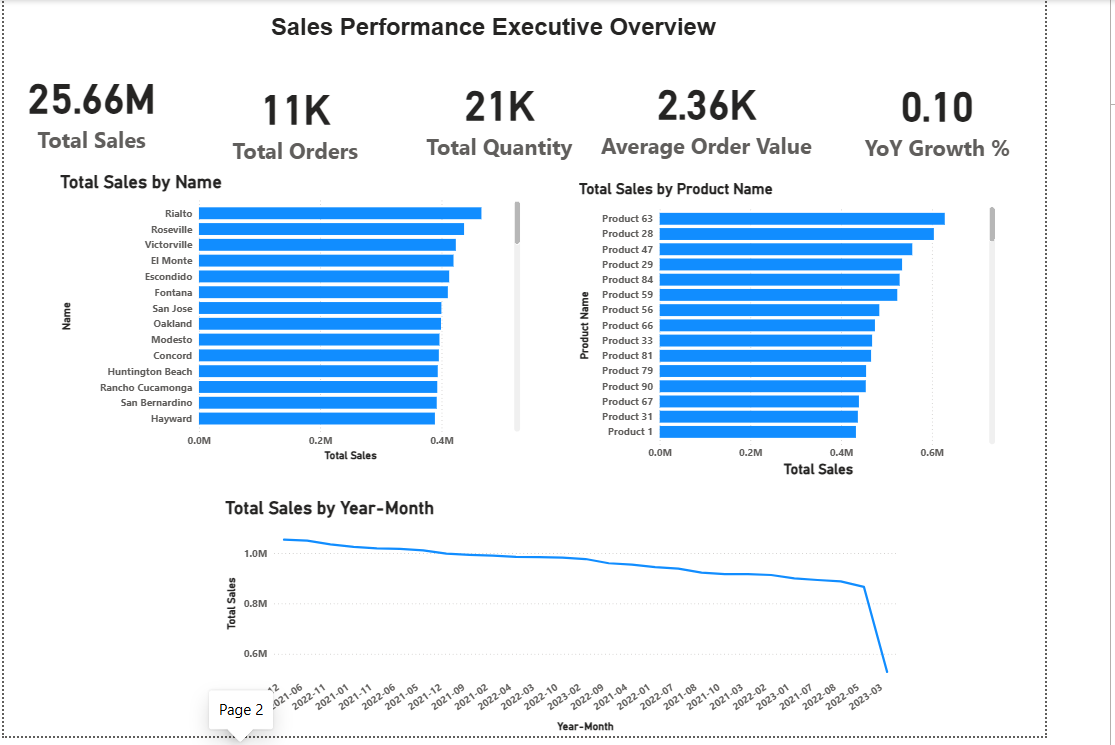

This screenshot's page, from the dashboard's own definition file:
{"tool":"powerbi","page":{"name":"Page 2","canvas":[1400,990],"ordinal":1},"visuals":[{"type":"textbox","box":[332.8,13.9,650.2,55.5],"z":0},{"type":"card","fields":{"Values":["Fact_Sales.Total Sales"]},"box":[0,76.6,235.8,137.8],"z":1000},{"type":"card","fields":{"Values":["Fact_Sales.Total Orders"]},"box":[255.6,77.3,272.6,165.4],"z":2000},{"type":"card","fields":{"Values":["Fact_Sales.Total Quantity"]},"box":[526.3,80.7,280.3,150.1],"z":3000},{"type":"card","fields":{"Values":["Fact_Sales.Average Order Value"]},"box":[768.4,77.3,353.1,153],"z":4000},{"type":"card","fields":{"Values":["Fact_Sales.YoY Growth %"]},"box":[1121.5,77.3,268,157.7],"z":5000},{"type":"lineChart","fields":{"Category":["Dim_Date.Year-Month"],"Y":["Fact_Sales.Total Sales"]},"box":[292.6,669.2,913,321.1],"z":6000},{"type":"barChart","fields":{"Category":["Dim_Location.Name"],"Y":["Fact_Sales.Total Sales"]},"box":[70.6,230.4,628.8,395.1],"z":7000},{"type":"barChart","fields":{"Category":["Dim_Product.Product Name"],"Y":["Fact_Sales.Total Sales"]},"box":[768.4,242.1,570,405.2],"z":8000}]}

Visuals, with their boxes on the page's 1400x990 design canvas (x1, y1, x2, y2). These are canvas units, not pixel positions in the 1115x745 screenshot, which may show the page scaled, cropped or inside an application window:
textbox: x1=333, y1=14, x2=983, y2=69
card - Fact_Sales.Total Sales: x1=0, y1=77, x2=236, y2=214
card - Fact_Sales.Total Orders: x1=256, y1=77, x2=528, y2=243
card - Fact_Sales.Total Quantity: x1=526, y1=81, x2=807, y2=231
card - Fact_Sales.Average Order Value: x1=768, y1=77, x2=1122, y2=230
card - Fact_Sales.YoY Growth %: x1=1122, y1=77, x2=1390, y2=235
lineChart - Dim_Date.Year-Month x Fact_Sales.Total Sales: x1=293, y1=669, x2=1206, y2=990
barChart - Dim_Location.Name x Fact_Sales.Total Sales: x1=71, y1=230, x2=699, y2=626
barChart - Dim_Product.Product Name x Fact_Sales.Total Sales: x1=768, y1=242, x2=1338, y2=647
